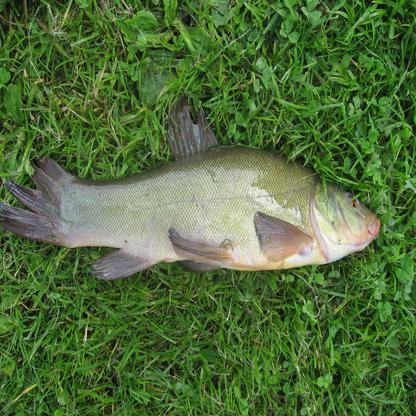fish: (4, 92, 381, 283)
